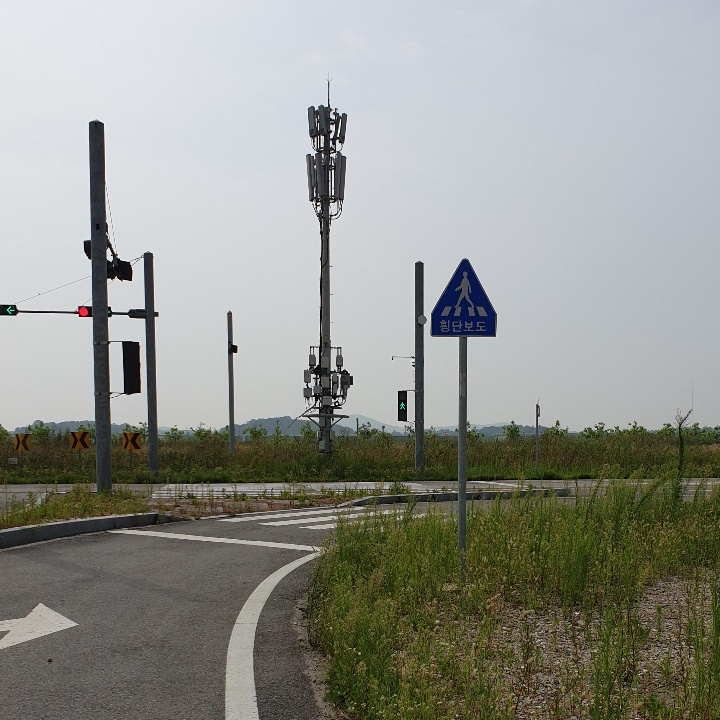cross: (445, 267, 485, 314)
